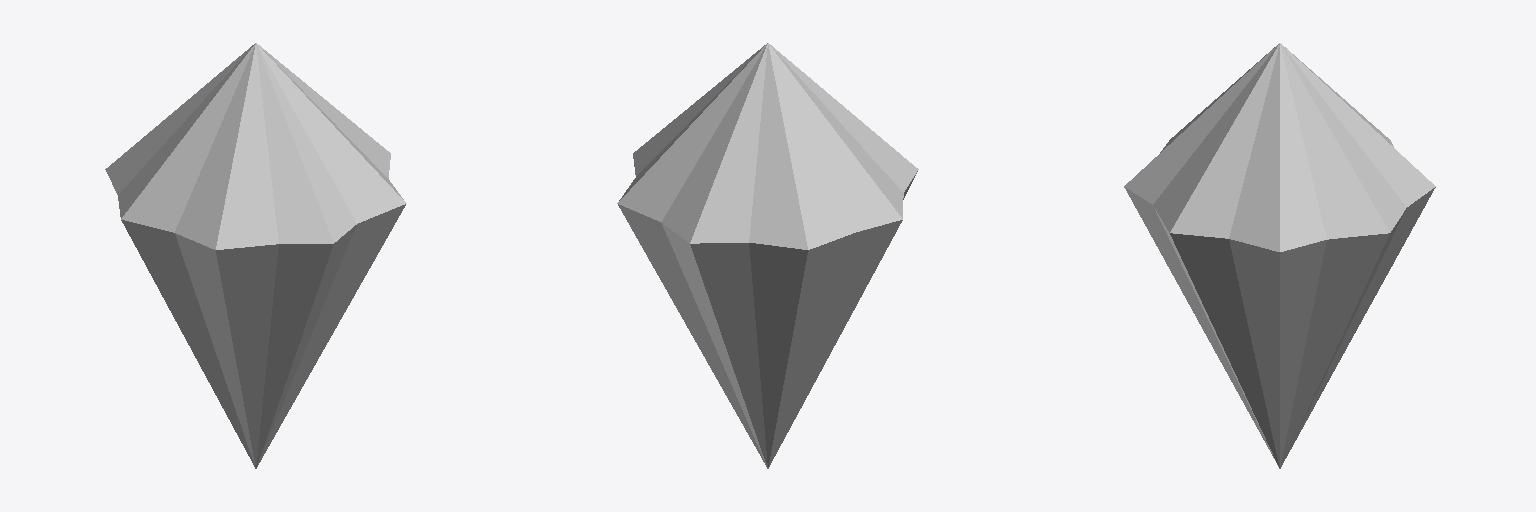
The model's file is indicator.obj.
3 renders of one model, left to right at view 1: azimuth 30°, elevation 25°; view 2: azimuth 150°, elevation 25°; view 3: azimuth 270°, elevation 25°, orthographic.
Parts seen in each view (by area): view 1: Cone; view 2: Cone; view 3: Cone.
Part boxes in pixels (left/top/right/bottom): Cone: left=105, top=43, right=406, bottom=468; Cone: left=617, top=43, right=918, bottom=468; Cone: left=1124, top=43, right=1435, bottom=468.
Bounding box in the file's own units: 0.8903 × 1.34 × 0.8903.